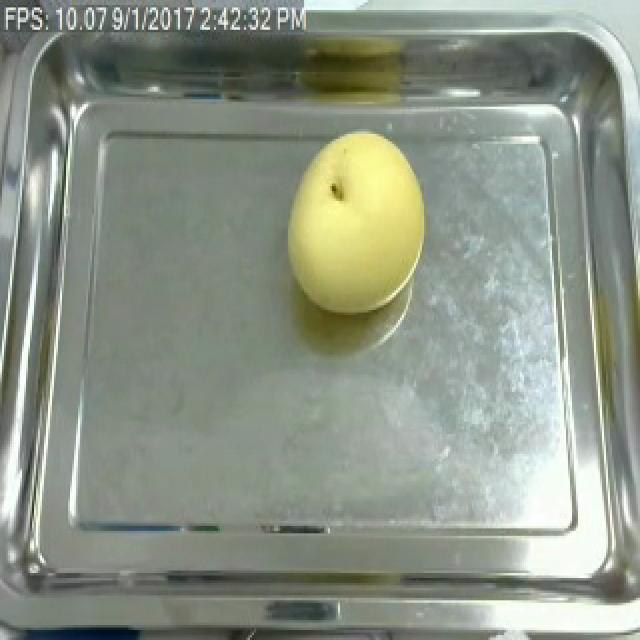Fruit: (278, 122, 434, 320)
